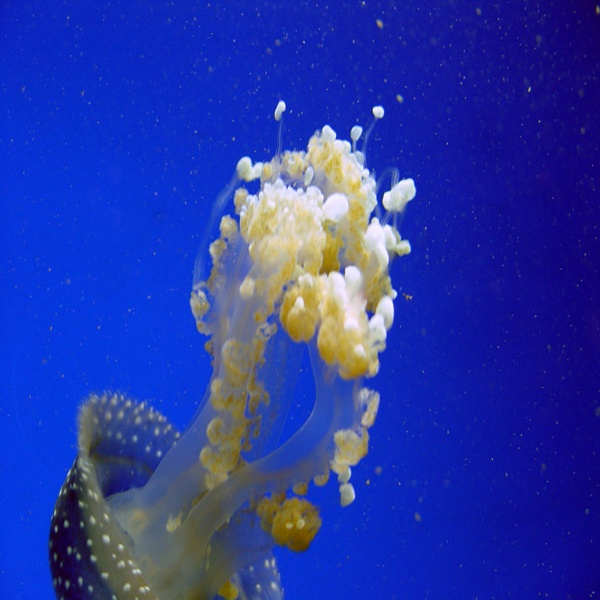Jellyfish: (47, 98, 414, 598)
